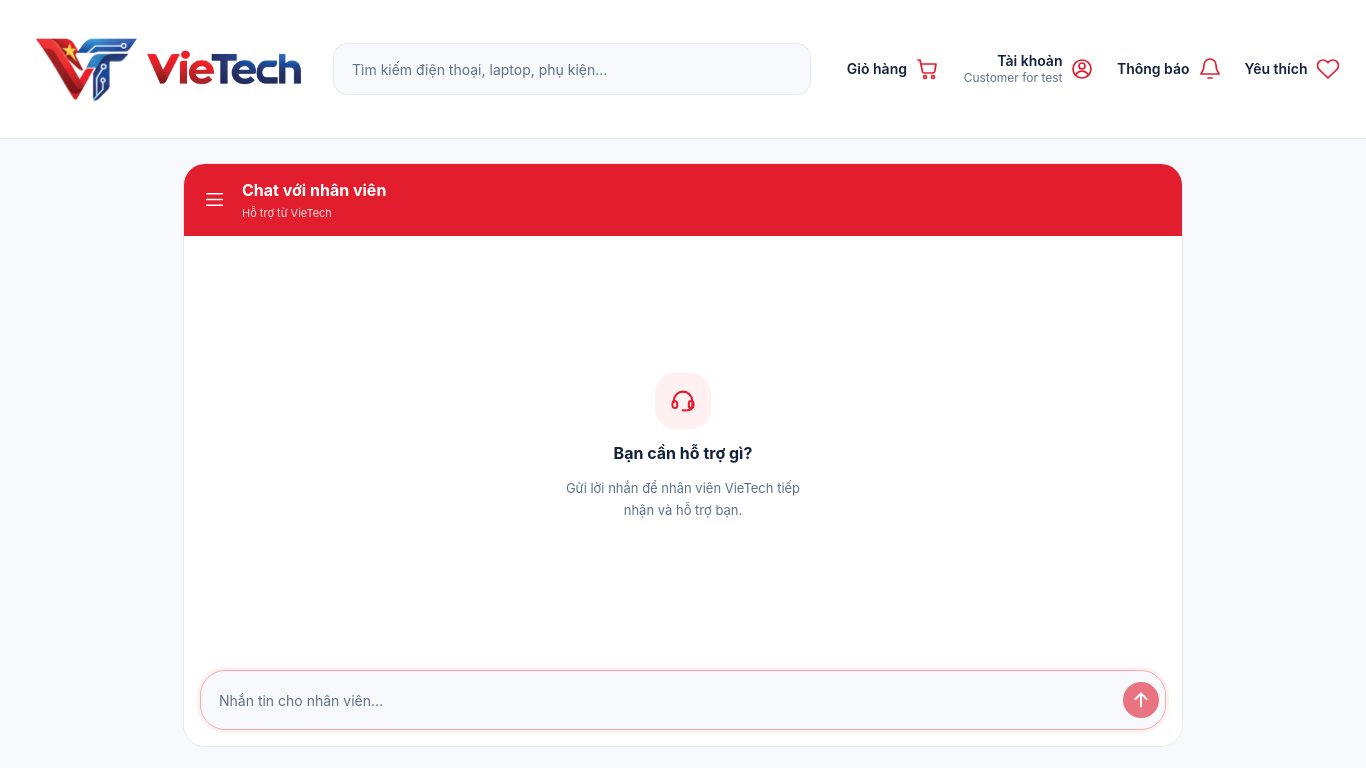
Test: failed message survives polling and retry resends the failed content while preserving a newer draft
In the text box named "Nội dung tin nhắn": coordinates (661, 700) [207,677,1115,723], type "Tin nhắn gửi lỗi"
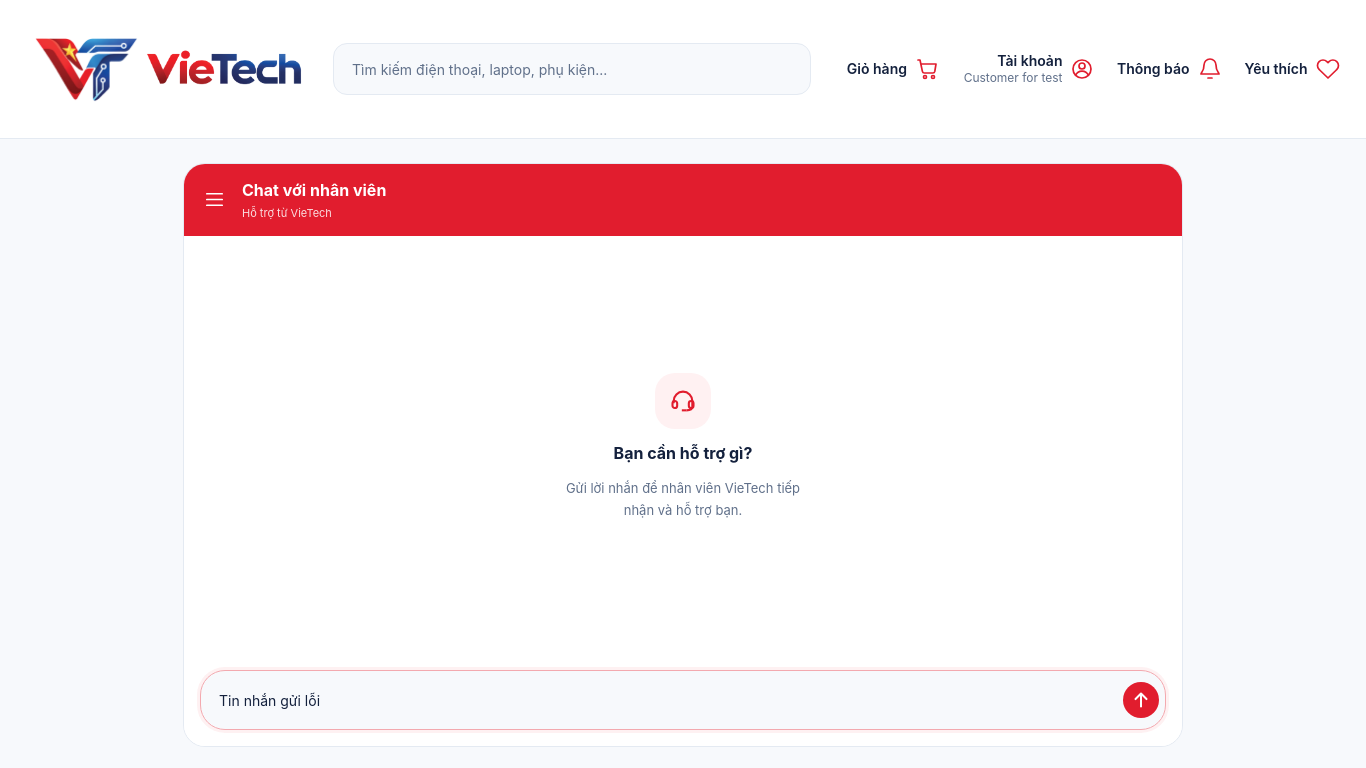
Click the button named "Gửi tin nhắn": coordinates (1141, 700) [1123,682,1159,718]
(page scrolled)
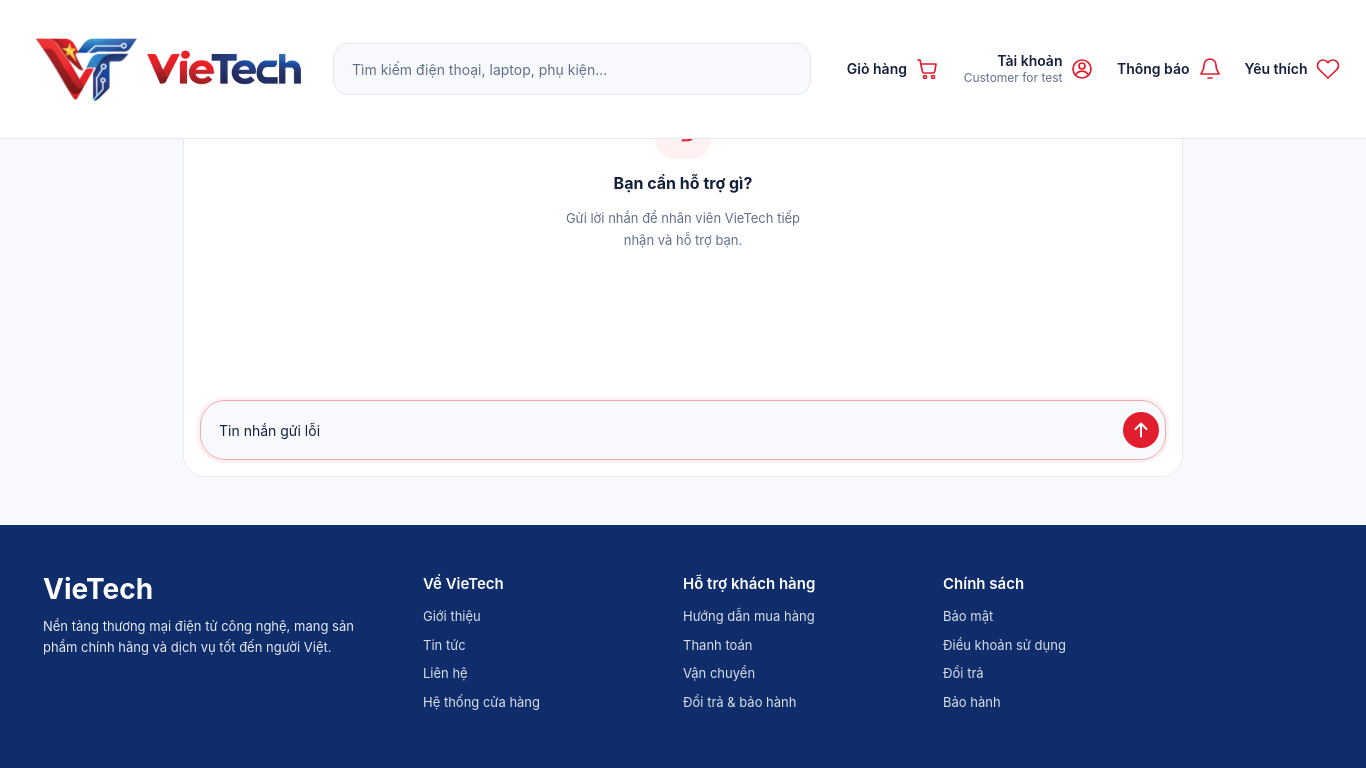
Replace the text in the text box named "Nội dung tin nhắn" with "Bản nháp mới": coordinates (661, 430) [207,407,1115,453]
(page scrolled)
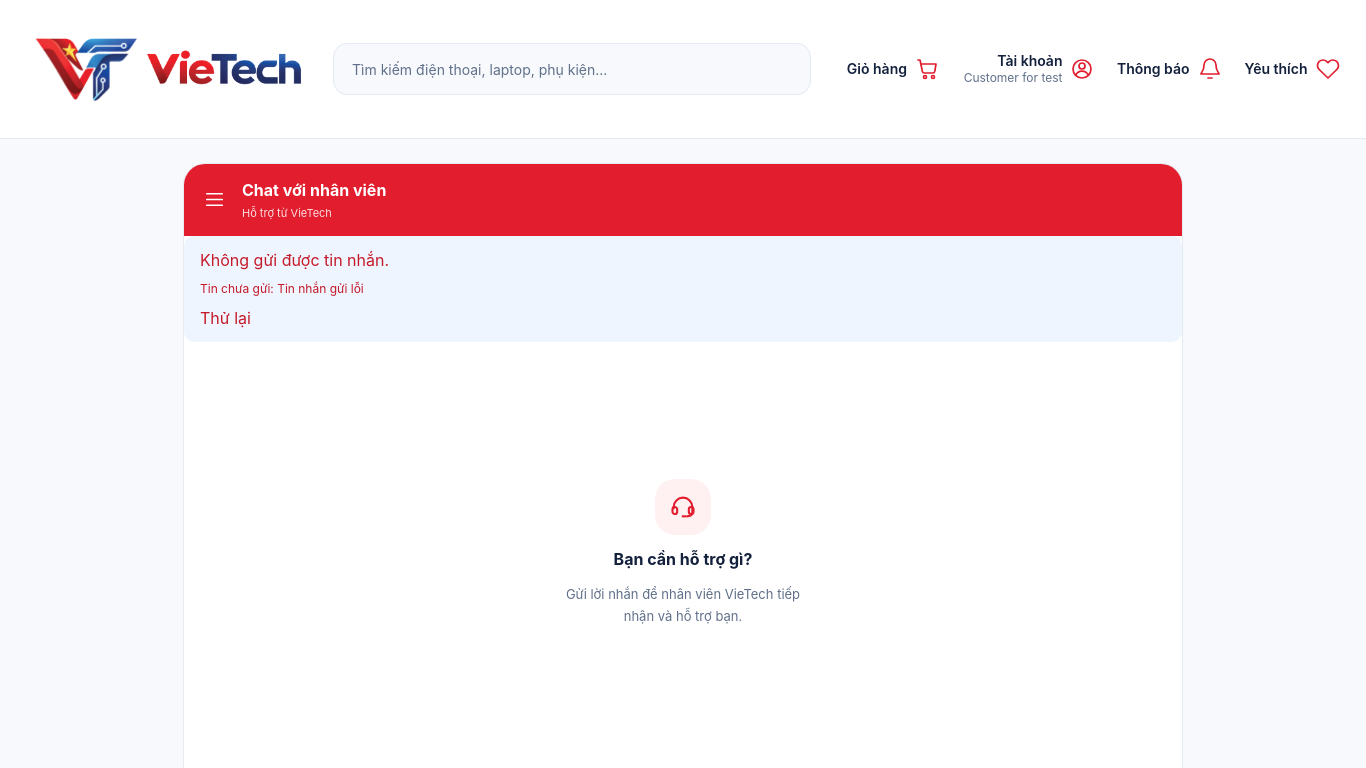
Click the button "Thử lại": coordinates (225, 318) [200,306,251,330]
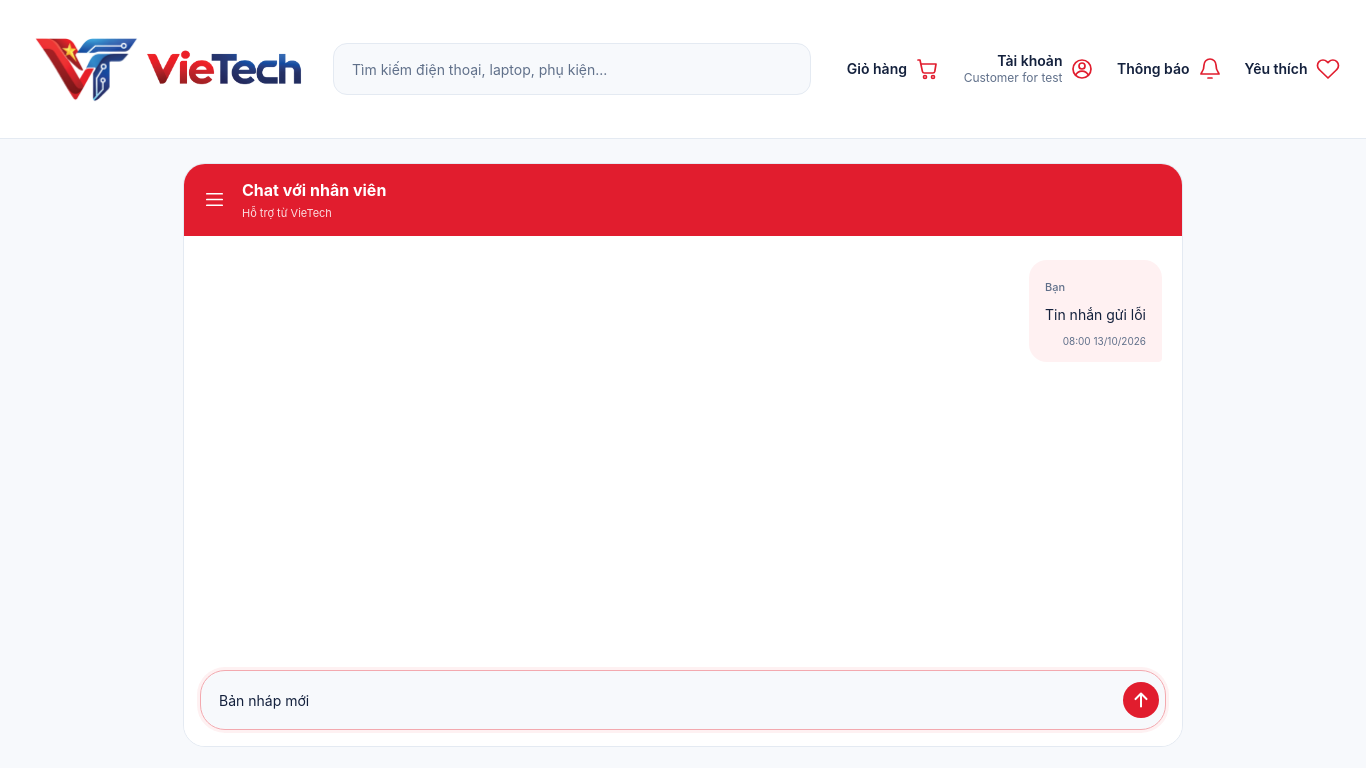
Now the text "Tin nhắn gửi lỗi" is shown, box [1045,302,1146,326]
Now the message "Không gửi được tin nhắn. Tin chưa gửi: Tin nhắn gửi lỗi Thử lại" is gone
